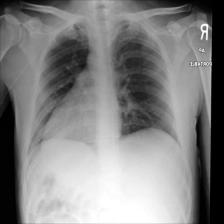normal: (23, 20, 186, 155)
